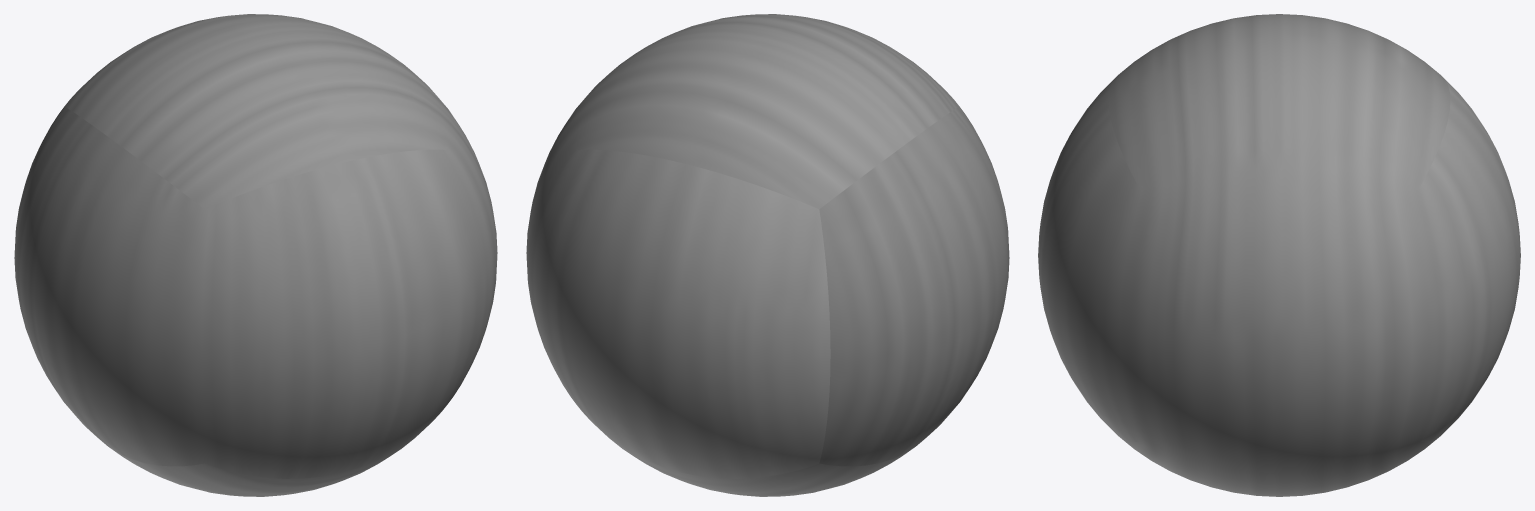
File: canica.obj
The picture shows the model from 3 angles, left to right: view 1: azimuth 30°, elevation 25°; view 2: azimuth 150°, elevation 25°; view 3: azimuth 270°, elevation 25°; orthographic projection.
Parts seen in each view (by area): view 1: bolaPinball; view 2: bolaPinball; view 3: bolaPinball.
Part boxes in pixels (left/top/right/bottom): bolaPinball: left=14, top=14, right=497, bottom=496; bolaPinball: left=526, top=14, right=1009, bottom=496; bolaPinball: left=1038, top=14, right=1520, bottom=496.
Size of the model in its own units: 6.97 by 6.97 by 6.97.
